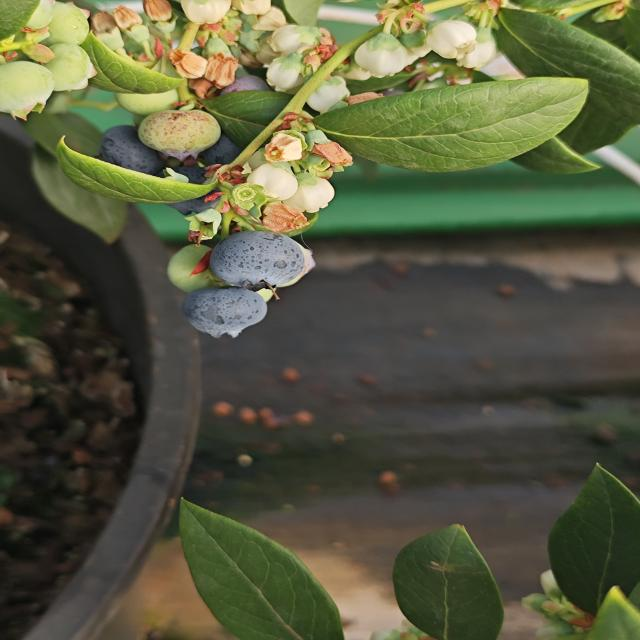ripe: (164, 123, 247, 214), (212, 221, 312, 286), (173, 289, 271, 340), (104, 118, 164, 170)
